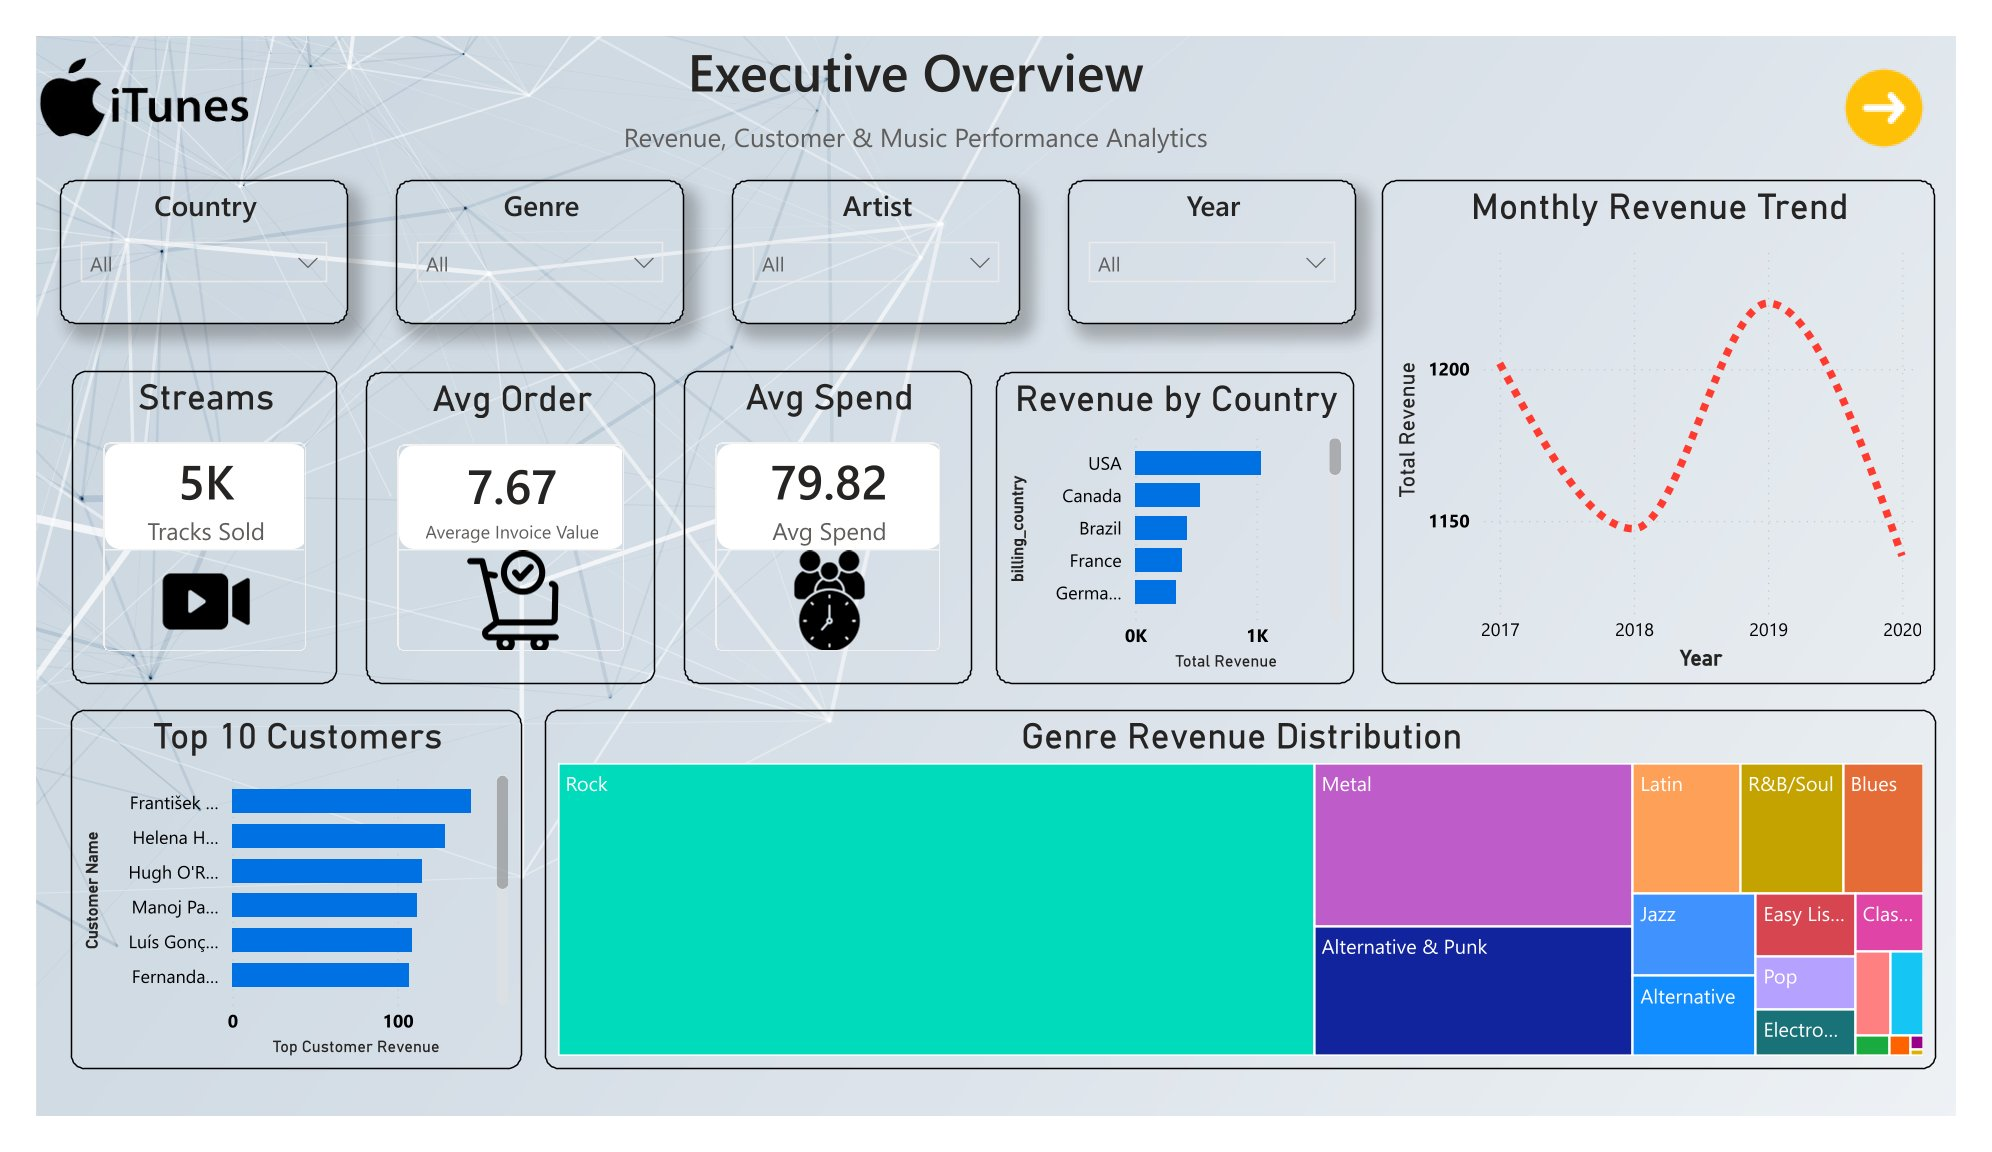

The dashboard page shown, as its layout file describes it:
{"tool":"powerbi","page":{"name":"Executive Overview","canvas":[1280,720],"ordinal":1},"visuals":[{"type":"image","box":[0,0,1280.3,719.9],"z":0},{"type":"image","box":[0,0,144,80],"z":1000},{"type":"actionButton","box":[1184,16,96,64],"z":2000},{"type":"textbox","title":"Executive Overview","box":[360.7,0,450.8,80],"z":3000},{"type":"slicer","title":"Country","fields":{"Values":["invoice.billing_country"]},"box":[16,96,192,96],"z":4000},{"type":"slicer","title":"Genre","fields":{"Values":["genre.name"]},"box":[240.1,95.8,191.6,95.8],"z":5000},{"type":"slicer","title":"Year","fields":{"Values":["invoice.invoice_date.Variation.Date Hierarchy.Year"]},"box":[688,96,192,96],"z":6000},{"type":"slicer","title":"Artist","fields":{"Values":["artist.name"]},"box":[464,96,192,96],"z":7000},{"type":"cardVisual","title":"Streams","fields":{"Data":["invoice_line.Tracks Sold"]},"box":[23.7,223.2,177,208.5],"z":8000},{"type":"cardVisual","title":"Avg Order","fields":{"Data":["invoice.Average Invoice Value"]},"box":[219.8,224.3,192.7,207.4],"z":9000},{"type":"cardVisual","title":"Avg Spend","fields":{"Data":["invoice.Avg Spend"]},"box":[431.7,223.2,192.7,208.5],"z":10000},{"type":"lineChart","title":"Monthly Revenue Trend","fields":{"Category":["invoice.invoice_date.Variation.Date Hierarchy.Year","invoice.invoice_date.Variation.Date Hierarchy.Month"],"Y":["invoice.Total Revenue"]},"box":[897.2,95.8,368.6,335.9],"z":11000},{"type":"clusteredBarChart","title":"Revenue by Country","fields":{"Category":["invoice.billing_country"],"Y":["invoice.Total Revenue"]},"box":[640.2,224.3,238.9,207.4],"z":12000},{"type":"clusteredBarChart","title":"Top 10 Customers","fields":{"Category":["customer.Customer Name"],"Y":["customer.Top Customer Revenue"]},"box":[23.3,448.7,300.5,240.1],"z":13000},{"type":"treemap","title":"Genre Revenue Distribution","fields":{"Group":["genre.name"],"Values":["invoice_line.Music Revenue"]},"box":[338.9,448.7,927.6,240.1],"z":14000}]}

Visuals, with their boxes in screenshot pixels (x1, y1, x2, y2), scaled from the page's 1280x720 canvas onto the 1992x1152 screenshot:
image: (left=0, top=0, right=1991, bottom=1151)
image: (left=0, top=0, right=224, bottom=128)
actionButton: (left=1843, top=26, right=1991, bottom=128)
"Executive Overview" textbox: (left=561, top=0, right=1263, bottom=128)
"Country" slicer: (left=25, top=154, right=324, bottom=307)
"Genre" slicer: (left=374, top=153, right=672, bottom=307)
"Year" slicer: (left=1071, top=154, right=1370, bottom=307)
"Artist" slicer: (left=722, top=154, right=1021, bottom=307)
"Streams" cardVisual: (left=37, top=357, right=312, bottom=691)
"Avg Order" cardVisual: (left=342, top=359, right=642, bottom=691)
"Avg Spend" cardVisual: (left=672, top=357, right=972, bottom=691)
"Monthly Revenue Trend" lineChart: (left=1396, top=153, right=1970, bottom=691)
"Revenue by Country" clusteredBarChart: (left=996, top=359, right=1368, bottom=691)
"Top 10 Customers" clusteredBarChart: (left=36, top=718, right=504, bottom=1102)
"Genre Revenue Distribution" treemap: (left=527, top=718, right=1971, bottom=1102)
